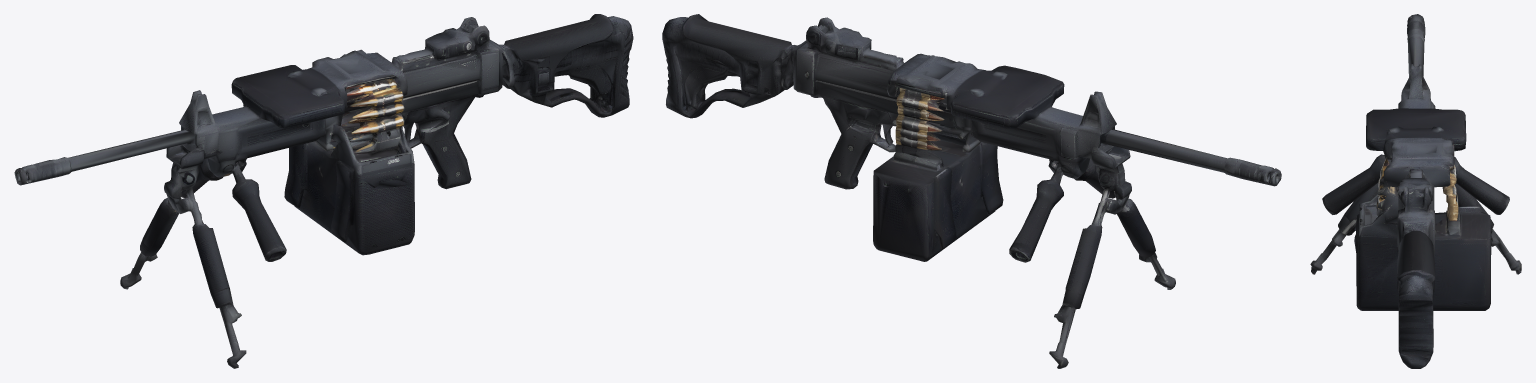
File: LMG.fbx
3 renders of one model, left to right at view 1: azimuth 30°, elevation 25°; view 2: azimuth 150°, elevation 25°; view 3: azimuth 270°, elevation 25°, orthographic. The views are drawn at different scales.
Visible parts, largest first — view 1: Mesh_0; view 2: Mesh_0; view 3: Mesh_0.
Boxes of the visible parts, bbox=[...] form: Mesh_0: bbox=[14, 14, 633, 368]; Mesh_0: bbox=[662, 14, 1281, 368]; Mesh_0: bbox=[1310, 14, 1521, 368].
Size of the model in its own units: 191 by 70.69 by 61.27.
Materials: 1 (1 with a texture image).
